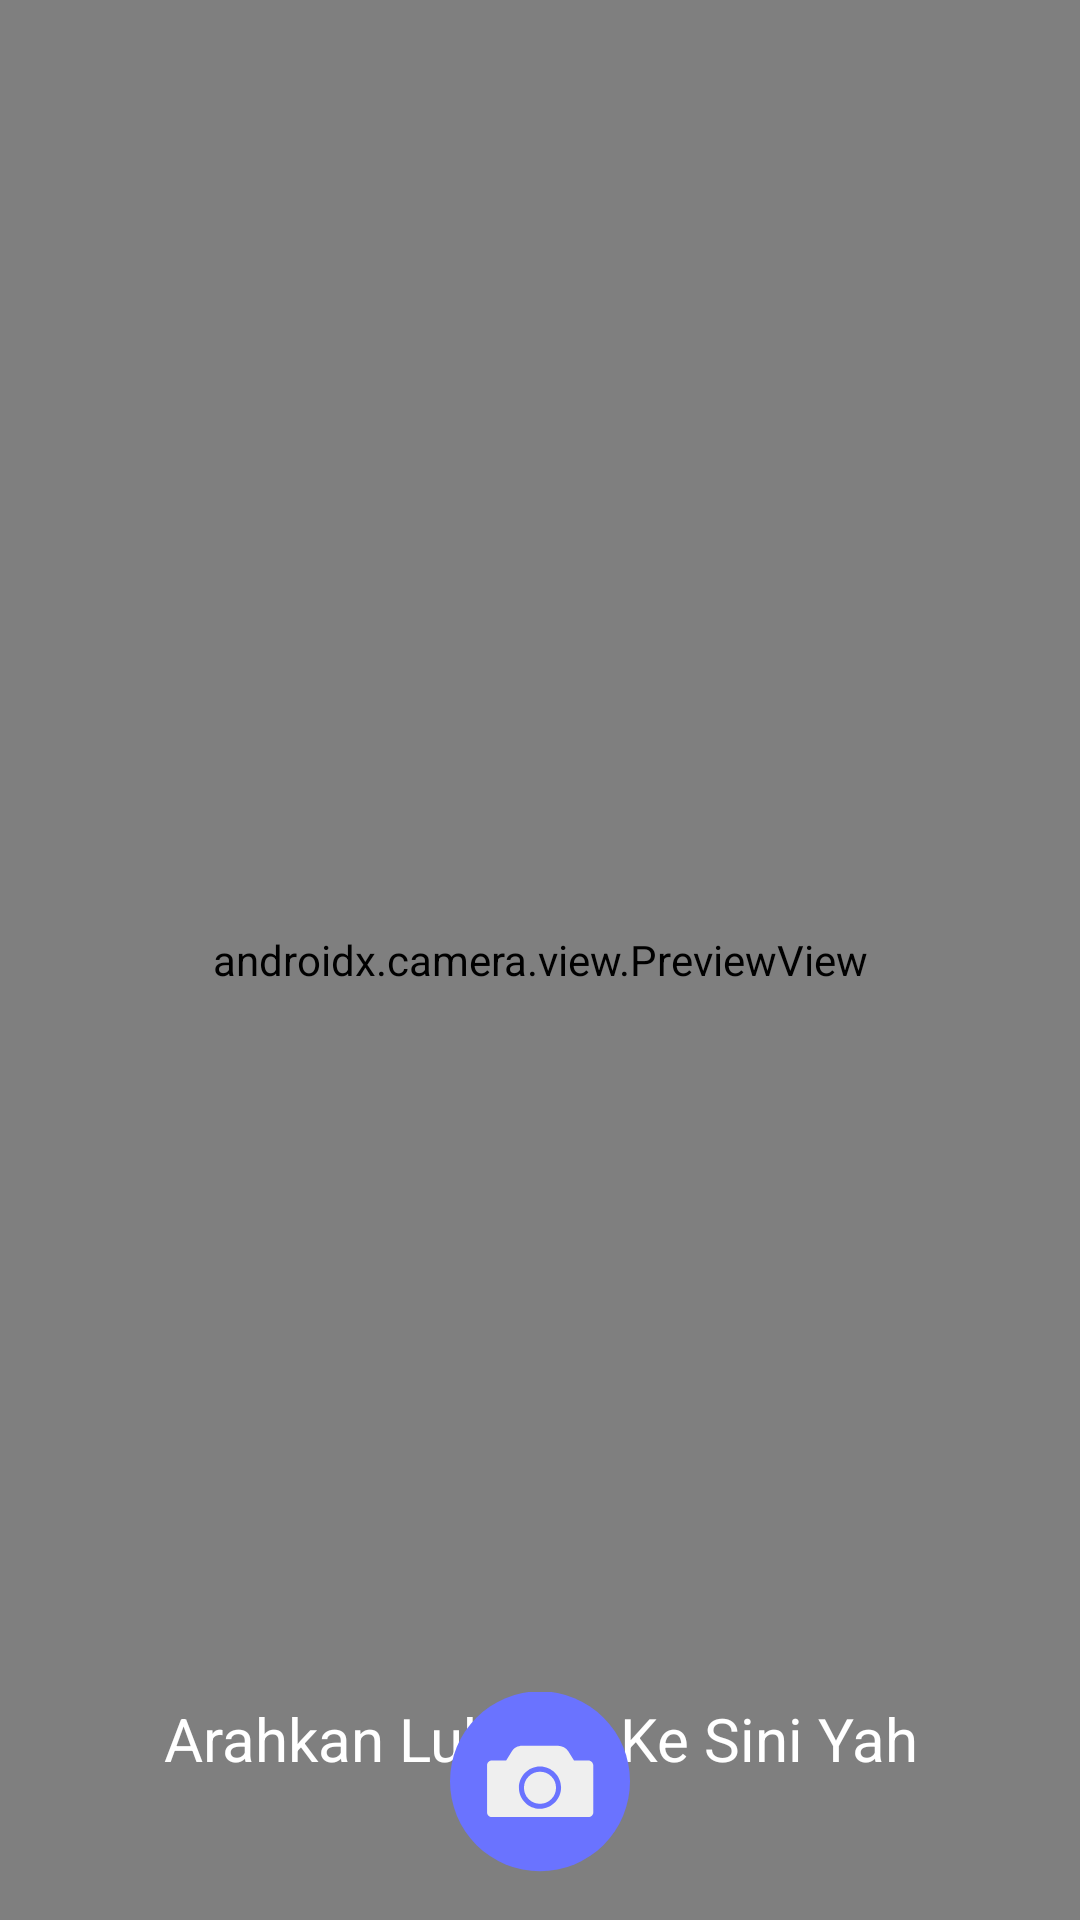

Screen size 1080 × 1920. Icon name, then its box in pixels as (x1, y1, x2, y2):
capture: (450, 1692, 630, 1872)
